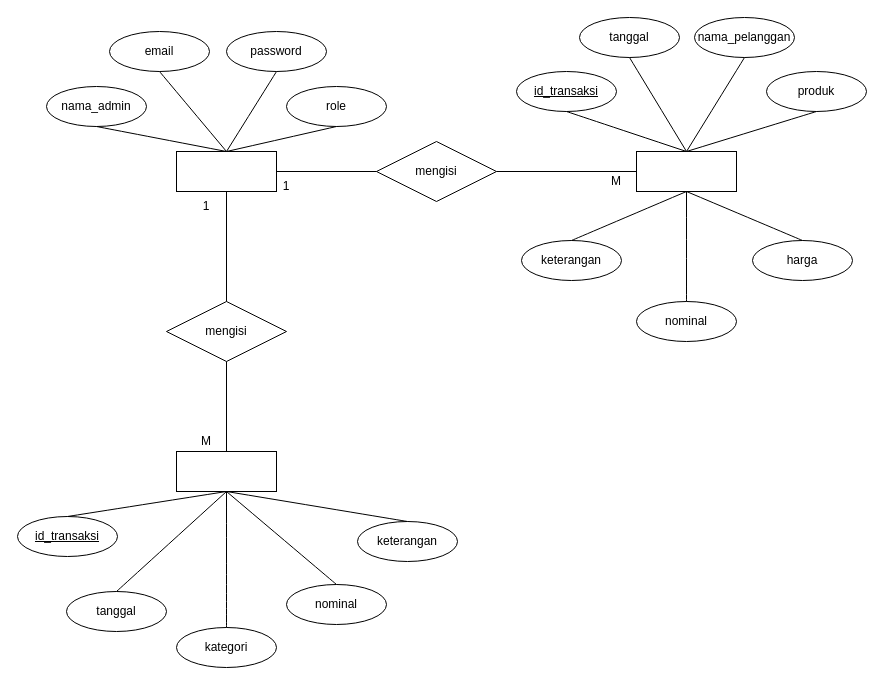
The diagram is 884 pixels wide and 685 high, and some of its shapes have lost their labels. The box of each missing label's shape, as (x1, y1, x2, y2) in pixels:
Expense: (176, 450, 276, 492)
Income: (636, 150, 736, 192)
User: (176, 150, 276, 192)
